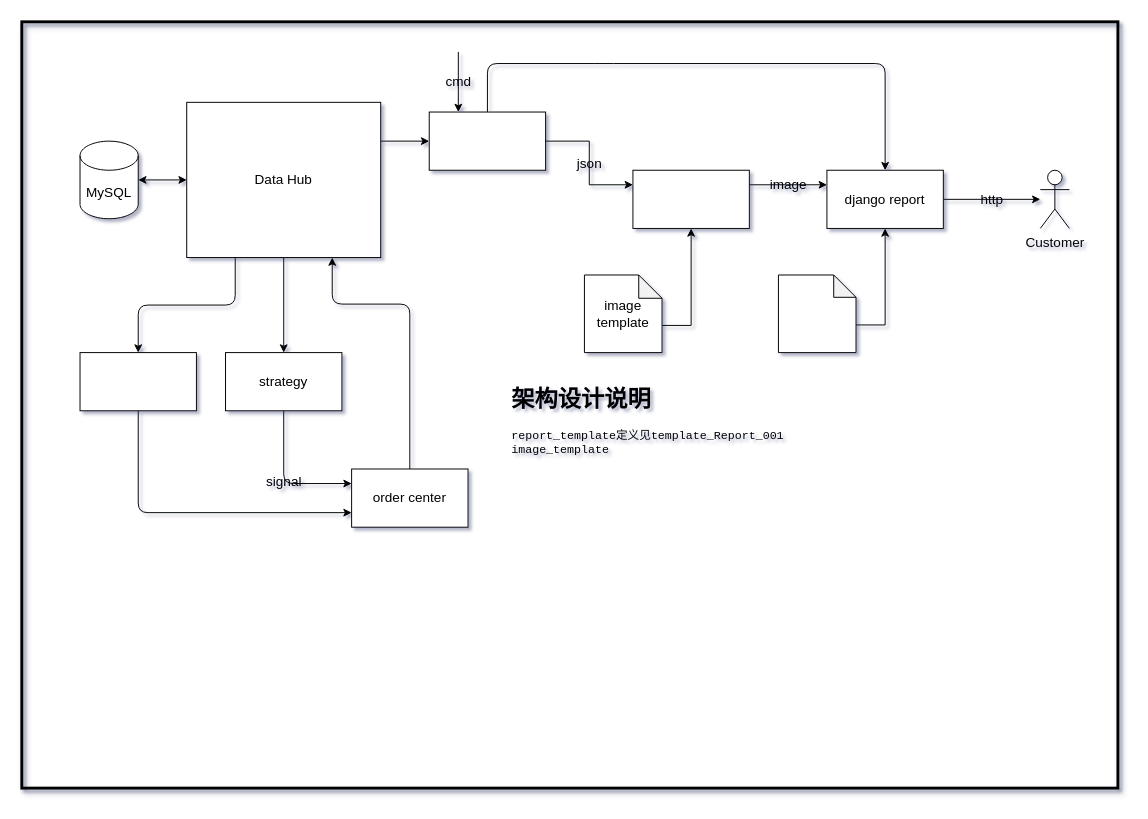
Some shapes in this 1148 by 819 pixel diagram are drawn without their labels. Here are the shapes that lost their labels. From the top down, the centre of each, then its label:
At point (487, 140): "settle center".
At point (690, 198): "image engine".
At point (816, 313): "report template".
At point (137, 381): "RIsk Manager".
